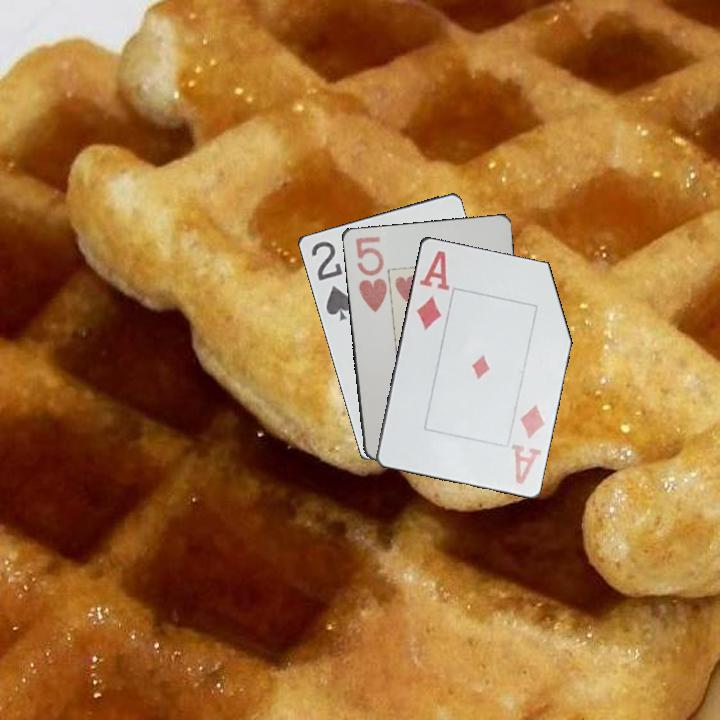2s: (307, 237, 355, 323)
5h: (351, 232, 390, 315)
Ad: (507, 400, 548, 487), (412, 247, 452, 333)
